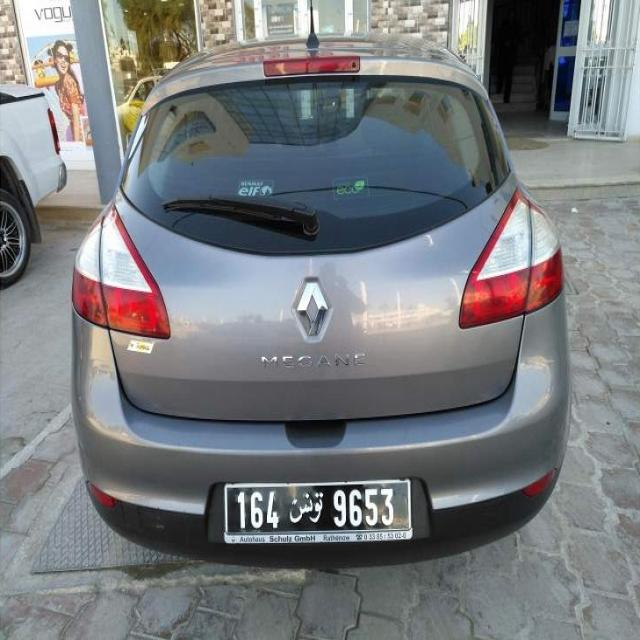licence plate: (226, 484, 414, 544)
